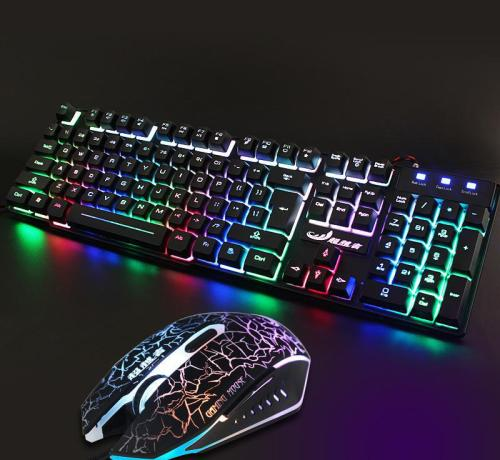keyboard: (12, 101, 494, 342)
mouse: (76, 312, 312, 456)
